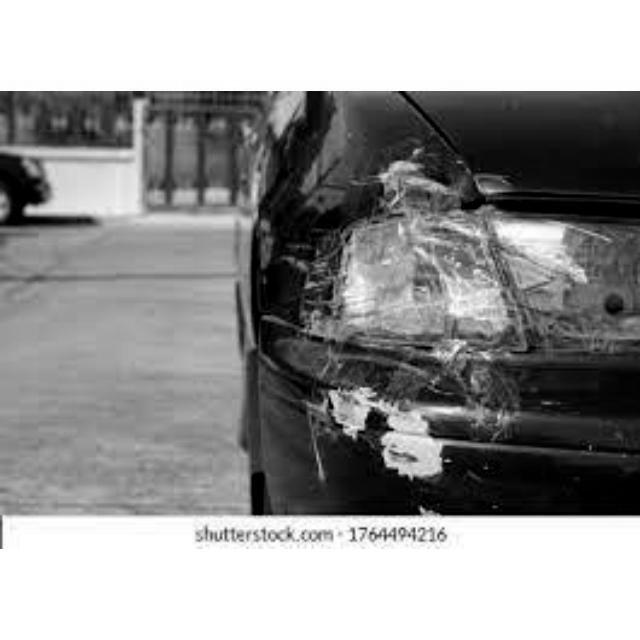Headlight-damage: (261, 156, 637, 378)
front-bumper-dent: (213, 313, 638, 523)
